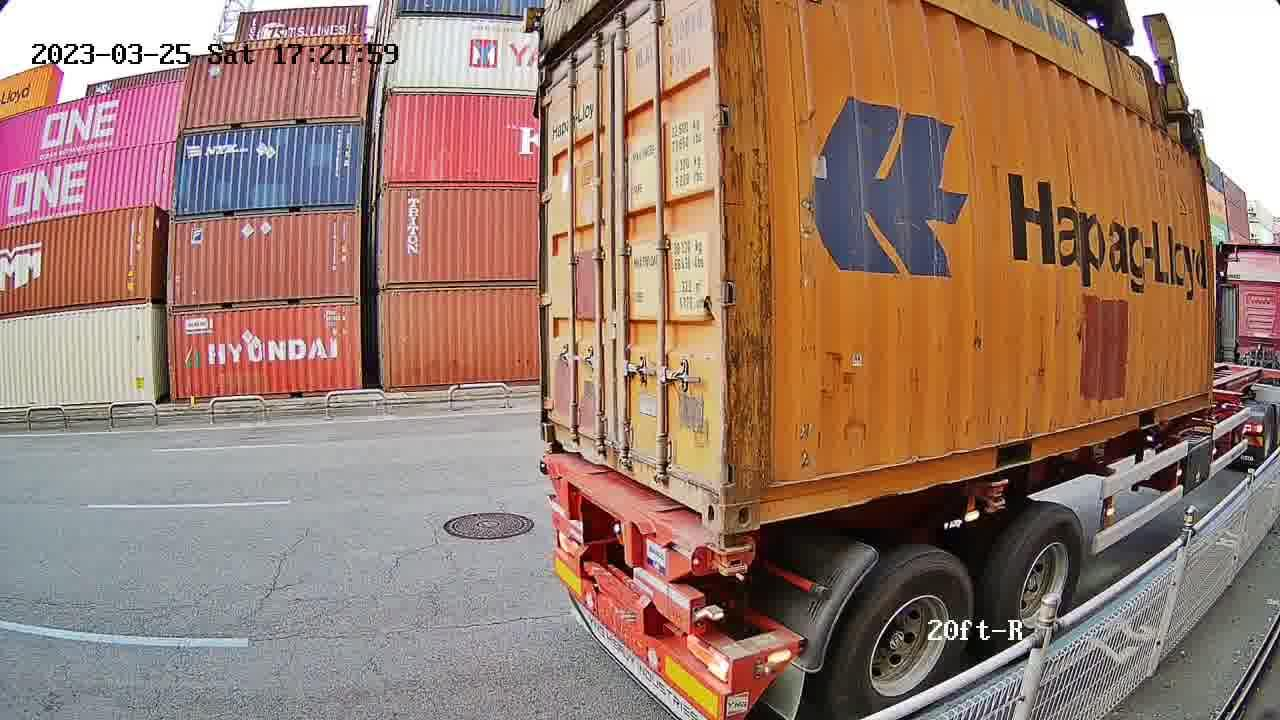Chassis: (540, 450, 753, 583)
Cone: (715, 536, 751, 585)
Hole_L: (721, 465, 786, 536), (539, 402, 574, 452)
Hole_R: (677, 458, 723, 533)
Tire: (832, 554, 971, 719), (1001, 507, 1083, 651)
